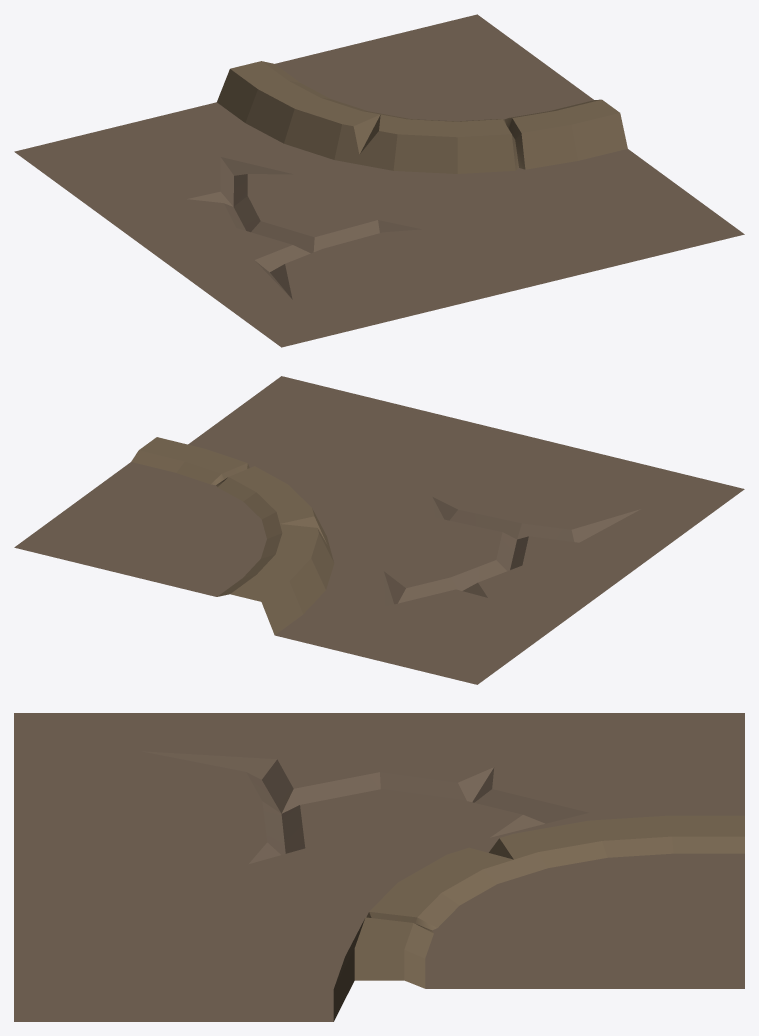
File: LP_PostApoc_PavedOuterCornerCurved.fbx
The picture shows the model from 3 angles, top to bottom: view 1: azimuth 30°, elevation 25°; view 2: azimuth 150°, elevation 25°; view 3: azimuth 270°, elevation 25°; orthographic projection. The views are drawn at different scales.
Visible parts, largest first — view 1: PavedOuterCornerCurved; view 2: PavedOuterCornerCurved; view 3: PavedOuterCornerCurved.
Part boxes in pixels (bbox=[...]): PavedOuterCornerCurved: bbox=[14, 14, 744, 347]; PavedOuterCornerCurved: bbox=[14, 376, 744, 684]; PavedOuterCornerCurved: bbox=[14, 713, 744, 1021].
Bounding box in the file's own units: 400 × 33.6 × 400.
